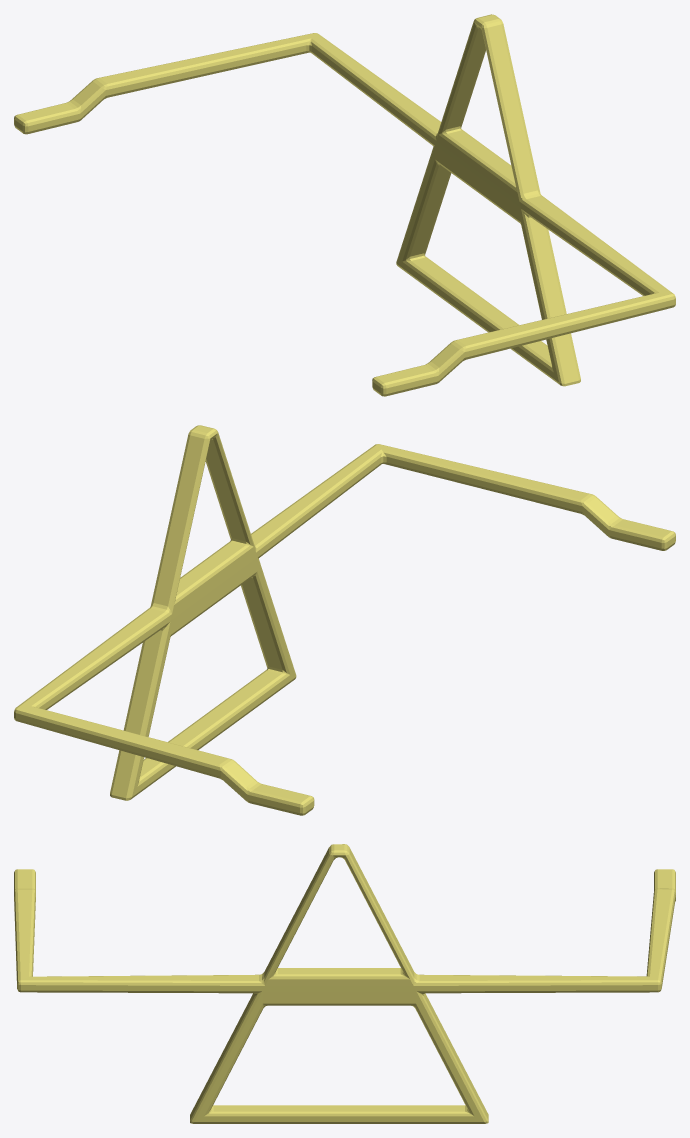
File: GAFAS ILUMINATI.fbx
3 renders of one model, top to bottom at view 1: azimuth 30°, elevation 25°; view 2: azimuth 150°, elevation 25°; view 3: azimuth 270°, elevation 25°, orthographic. The views are drawn at different scales.
Visible parts, largest first — view 1: Cube.008; view 2: Cube.008; view 3: Cube.008.
Boxes of the visible parts, <box> form: Cube.008: <box>14,14,675,396</box>; Cube.008: <box>14,425,675,815</box>; Cube.008: <box>14,844,675,1123</box>.
Bounding box in the file's own units: 69.85 × 68.39 × 150.
